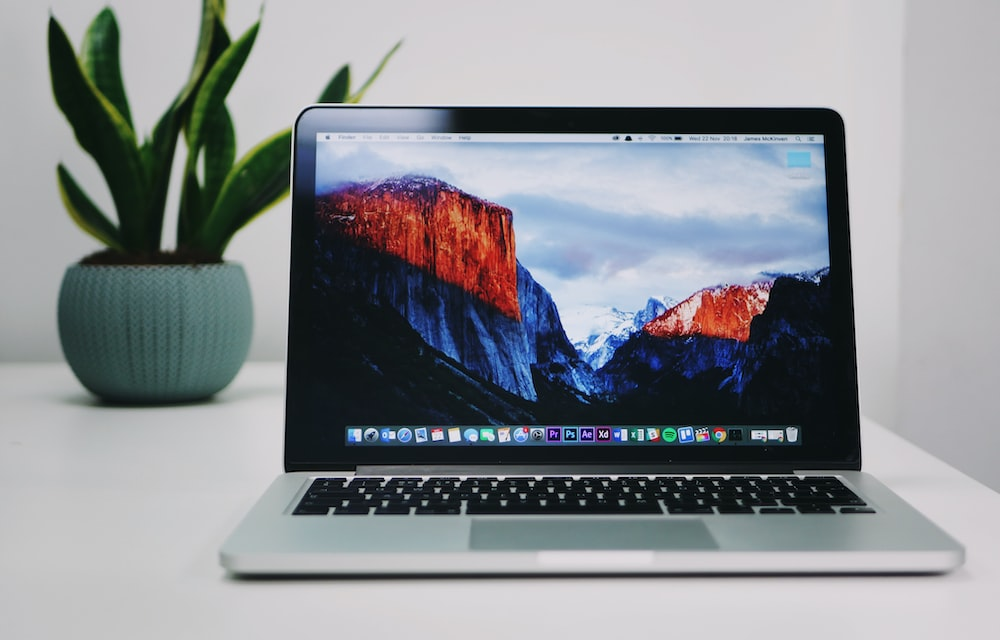laptop: (244, 64, 960, 589)
